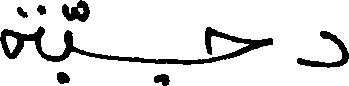ب: (52, 25, 72, 84)
ة: (0, 3, 48, 63)
ج: (153, 25, 270, 85)
د: (297, 28, 348, 67)
